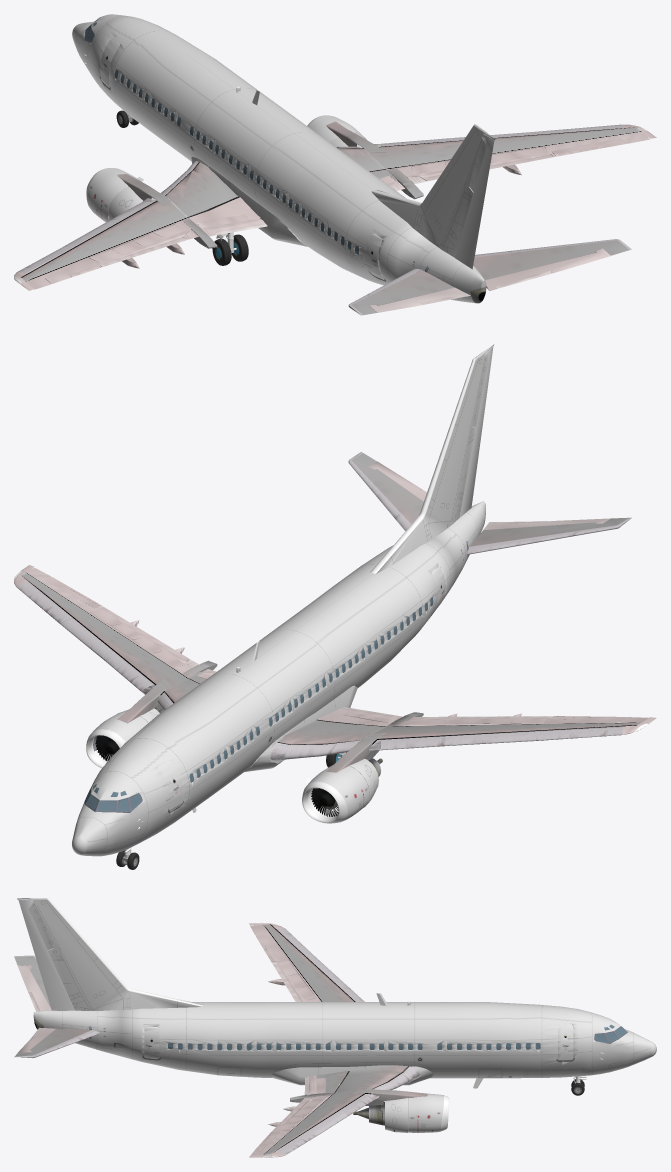
3 views of the same model, one above another, from view 1: azimuth 30°, elevation 25°; view 2: azimuth 150°, elevation 25°; view 3: azimuth 270°, elevation 25° (orthographic). The views are drawn at different scales.
Visible parts, largest first — view 1: Fuselage, vstab, rhobwing, obwing, hstab.001, winginbd, lengfanouterib, rudder, hstab, glas2, fwdpylon, rhelevator (+9 smaller); view 2: Fuselage, vstab, rhobwing, obwing, lengfanouterib, winginbd, fwdpylon, hstab.001, hstab, engnose, vstable, glas2 (+5 smaller); view 3: Fuselage, vstab, rudder, obwing, rhobwing, glas2, lengfanouterib, rhwinginbd, lreverserib, hstab.001, fwdpylon, lhelevator (+7 smaller).
Boxes of the visible parts, box(x1,y1,x2,y2) form: Fuselage: box(72, 14, 486, 303); vstab: box(371, 124, 495, 257); rhobwing: box(362, 127, 641, 169); obwing: box(21, 198, 188, 281); hstab.001: box(473, 240, 629, 280); winginbd: box(165, 162, 238, 217); lengfanouterib: box(87, 115, 362, 222); rudder: box(454, 133, 494, 269); hstab: box(352, 270, 454, 315); glas2: box(114, 69, 358, 254); fwdpylon: box(117, 121, 385, 206); rhelevator: box(485, 248, 610, 290); Fuselage: box(72, 501, 485, 856); vstab: box(370, 344, 494, 573); rhobwing: box(21, 572, 188, 694); obwing: box(366, 722, 640, 744); lengfanouterib: box(93, 712, 369, 820); winginbd: box(277, 719, 385, 744); fwdpylon: box(117, 679, 385, 772); hstab.001: box(351, 453, 423, 523); hstab: box(470, 517, 628, 546); engnose: box(86, 729, 347, 823); vstable: box(370, 358, 475, 573); glas2: box(189, 597, 433, 782); Fuselage: box(33, 1002, 656, 1085); vstab: box(17, 898, 202, 1010); rudder: box(18, 899, 74, 1010); obwing: box(263, 924, 355, 1001); rhobwing: box(263, 1089, 371, 1156); glas2: box(168, 1043, 540, 1050); lengfanouterib: box(408, 1093, 443, 1132); rhwinginbd: box(334, 1065, 408, 1092); lreverserib: box(385, 1098, 408, 1132); hstab.001: box(15, 1028, 91, 1056); fwdpylon: box(353, 1089, 427, 1105); lhelevator: box(17, 965, 51, 1010).
Bounding box in the file's own units: 28.73 × 11.44 × 33.3.
Materials: 18 (10 with a texture image).
